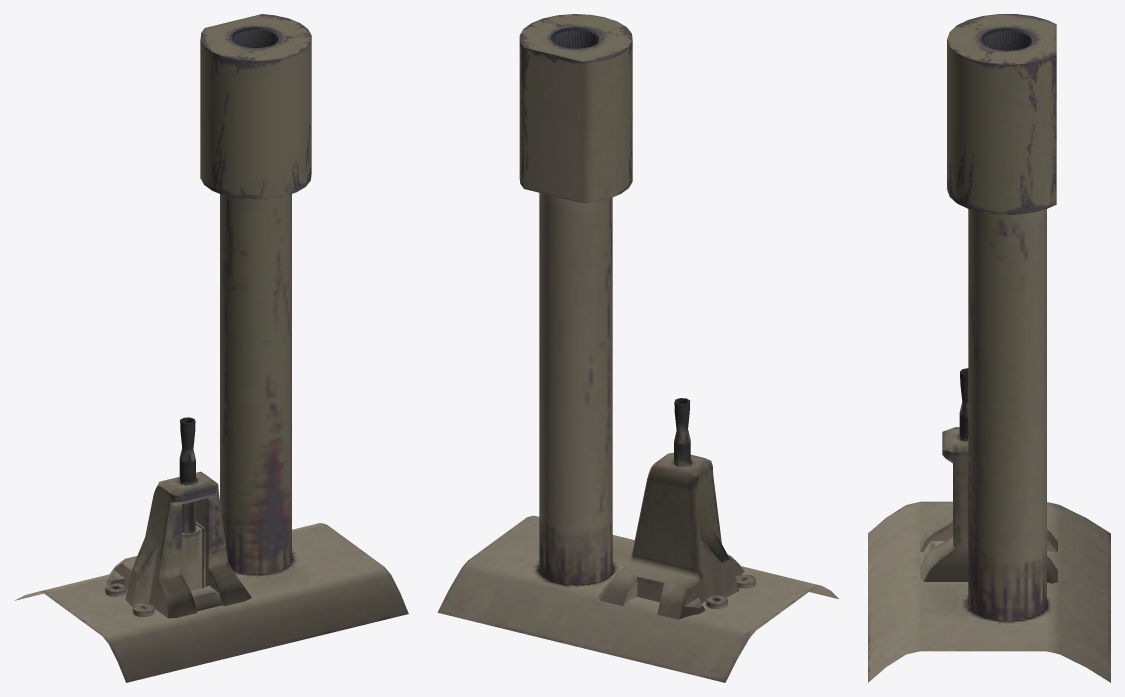
The model's file is Gun_02.glb.
3 renders of one model, left to right at view 1: azimuth 30°, elevation 25°; view 2: azimuth 150°, elevation 25°; view 3: azimuth 270°, elevation 25°, orthographic. The views are drawn at different scales.
Parts seen in each view (by area): view 1: set_0_group_0; view 2: set_0_group_0; view 3: set_0_group_0.
Part boxes in pixels (bbox=[...]): set_0_group_0: bbox=[15, 14, 408, 682]; set_0_group_0: bbox=[437, 14, 838, 682]; set_0_group_0: bbox=[868, 14, 1110, 682].
Size of the model in its own units: 0.6828 by 1.27 by 0.4689.
1 material, 1 textured.
